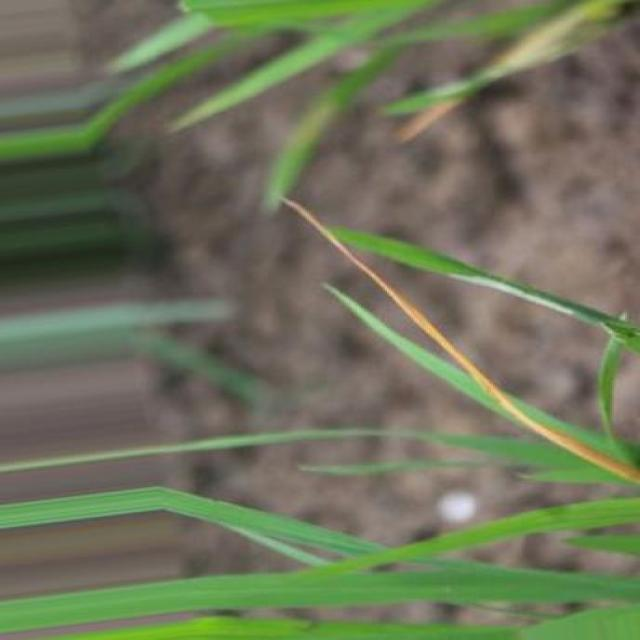Rice Tungro: (283, 198, 640, 482)
